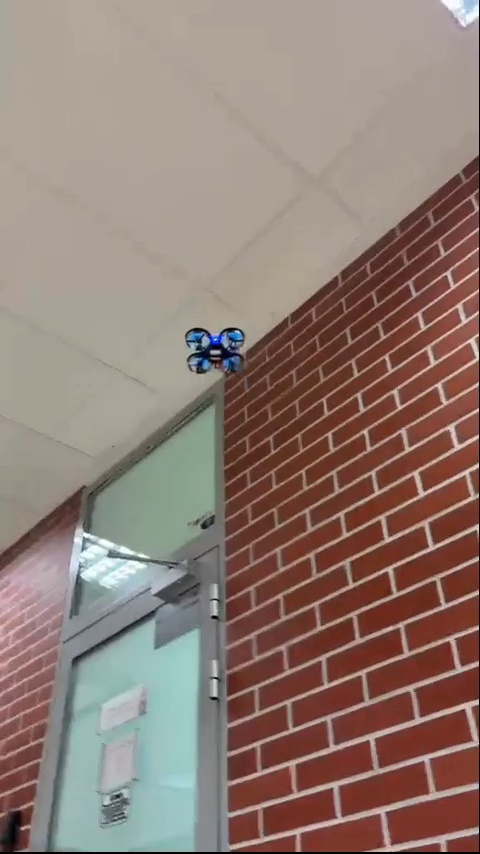drone: (185, 327, 246, 378)
